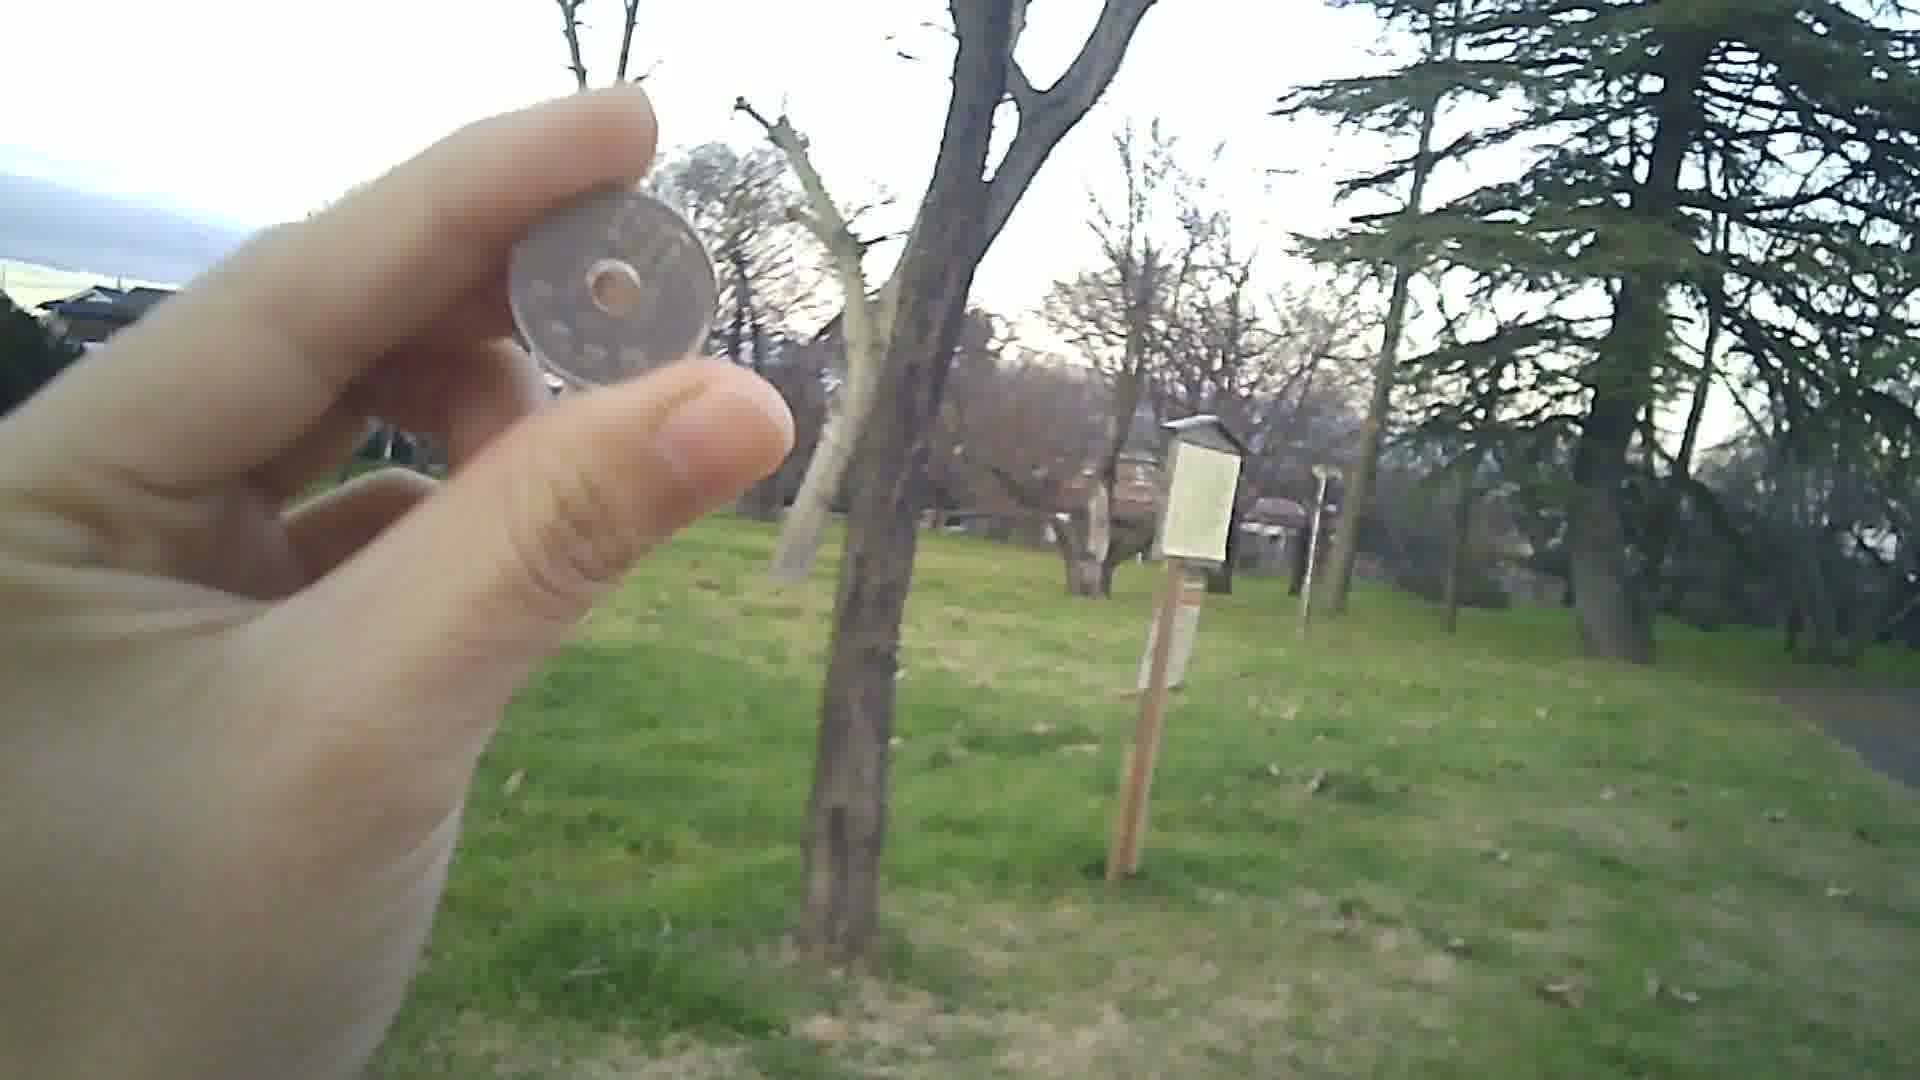50 Yen: (510, 175, 733, 404)
